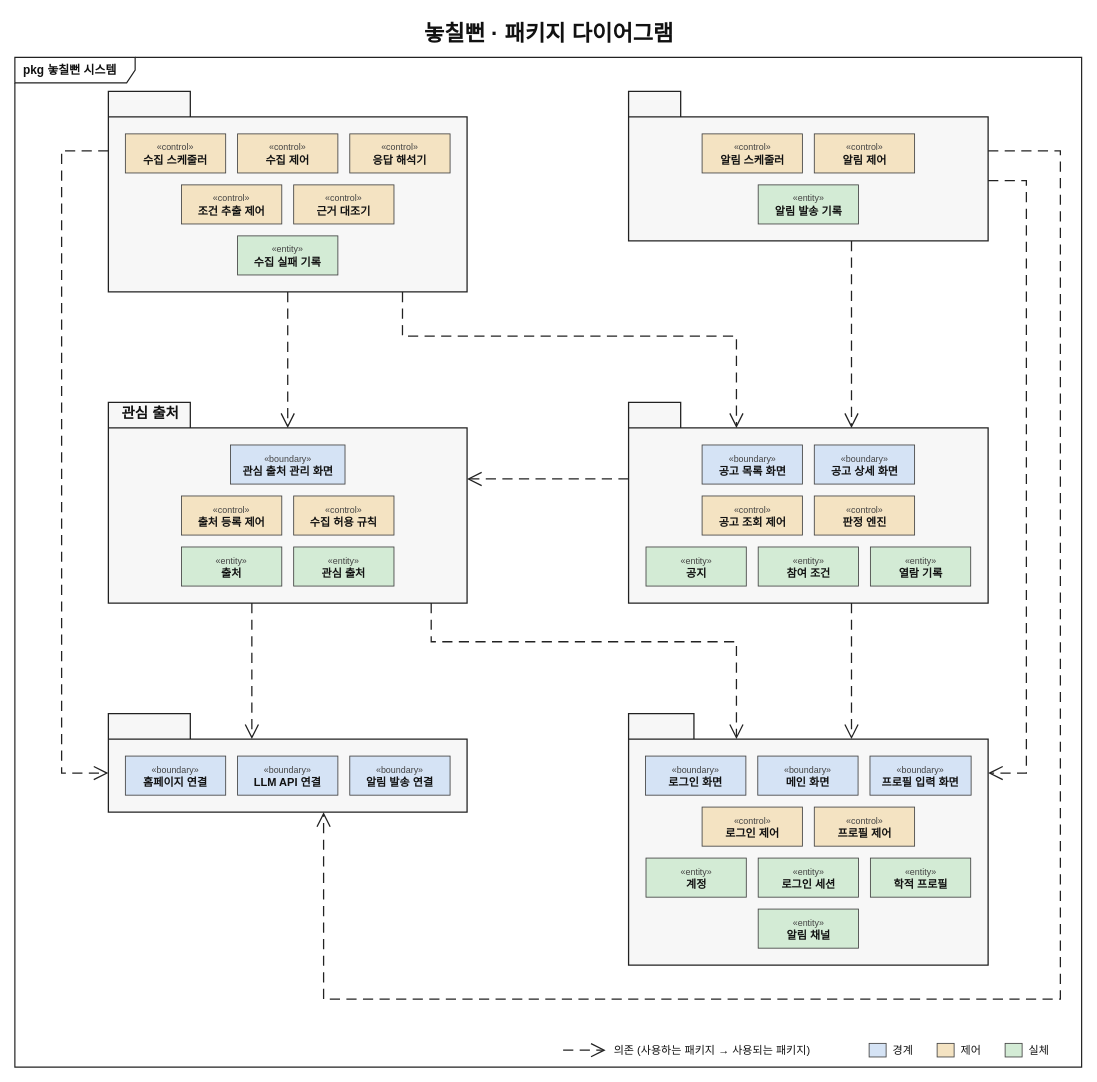
Some shapes in this 1097 by 1082 pixel diagram are drawn without their labels. The box of each missing label's shape, as (x1, y1, x2, y2) in pixels:
공고: (628, 401, 988, 603)
공지 수집: (107, 90, 467, 292)
사용자: (628, 713, 988, 965)
알림: (628, 90, 988, 241)
외부 연동: (107, 713, 467, 812)
